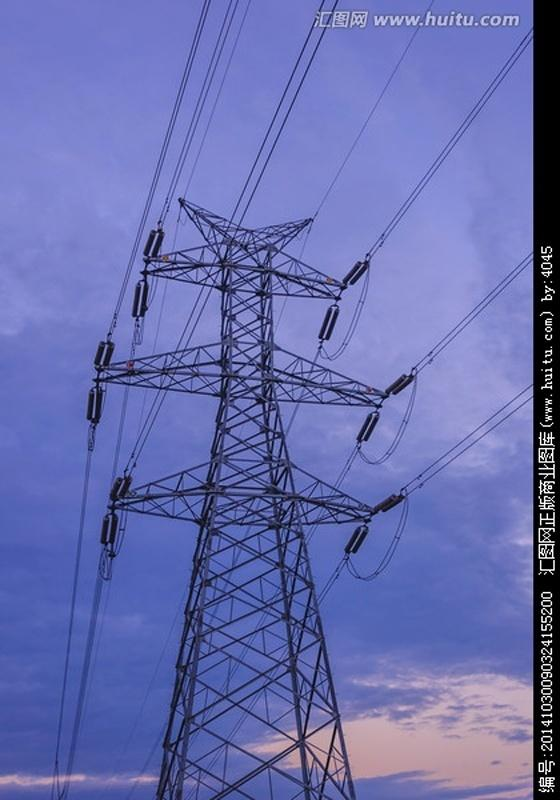power_tower: (68, 199, 466, 794)
